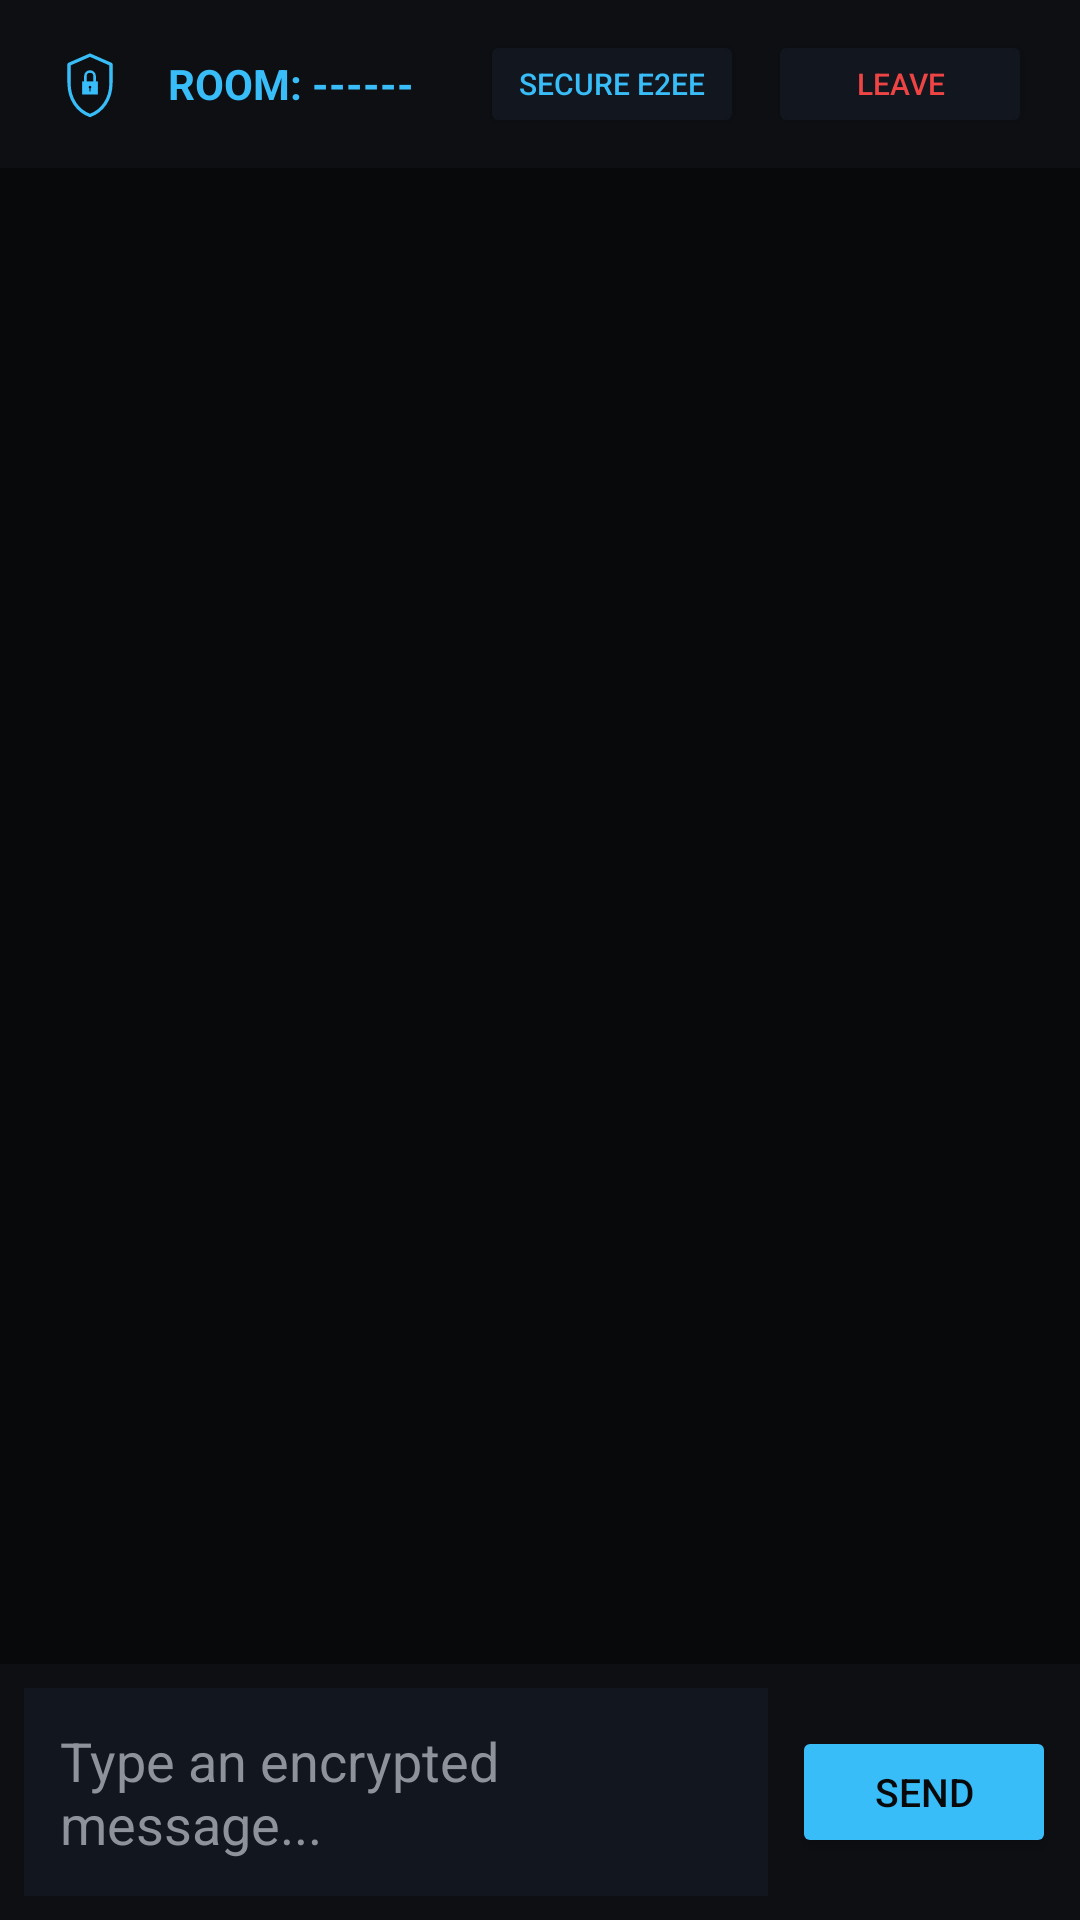

Named icons in this screenshot (1080px x 1920px) and their bounding boxes, (x1, y1, x2, y2):
nexus shield: (67, 53, 113, 117)
